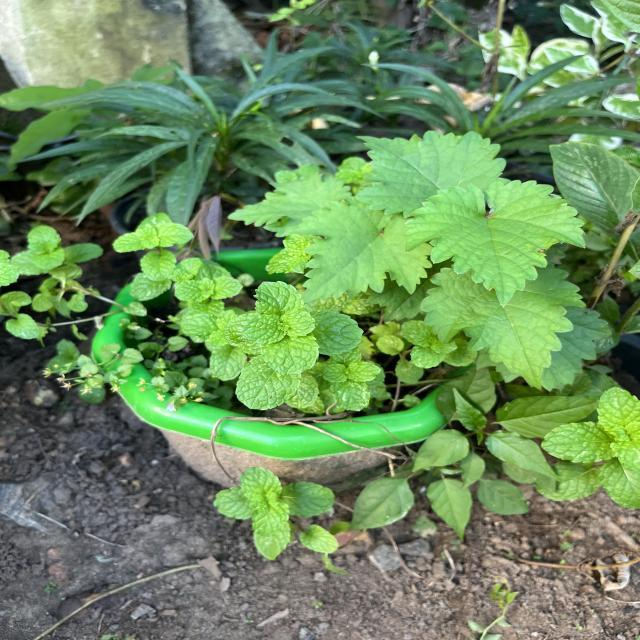Mentha spicata: (237, 356, 300, 411), (259, 334, 320, 376), (224, 312, 283, 350), (252, 280, 306, 312), (280, 309, 318, 338)
